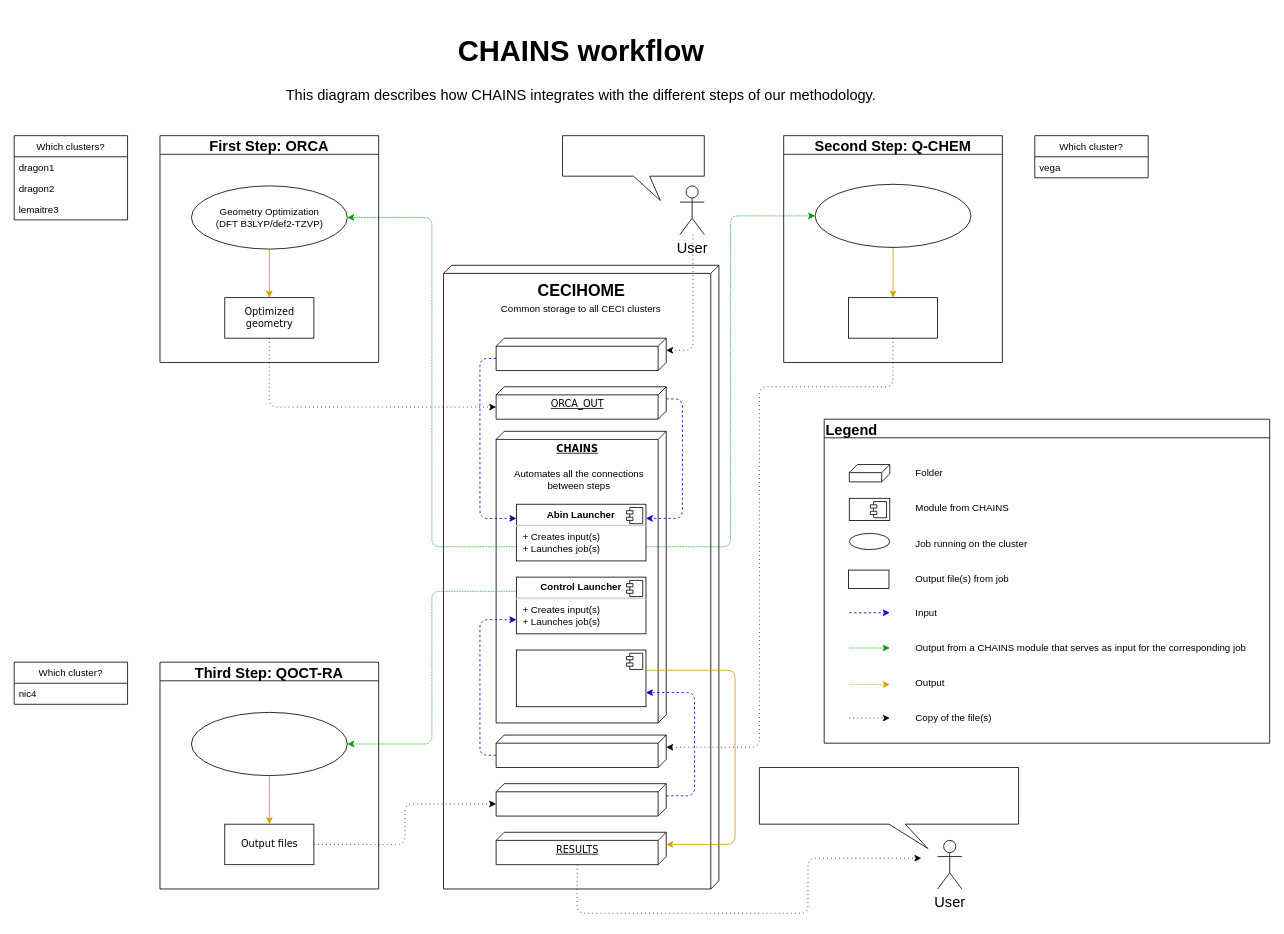
This 1284x934 diagram has some shape labels left out. The centre of each missing label's shape, as x and y in pixels:
CONTROL_OUT: the point at 580,799
Dipole moments and SOC determination (TD-DFT B3LYP/def2-TZVP): the point at 892,215
Let's put the starting geometries here: the point at 633,167
Output file: the point at 893,317
Q-CHEM_OUT: the point at 580,750
Quantum Optimal Control: the point at 269,744
Results Treatment + Creates table(s) + Creates graph(s): the point at 581,678
STARTING: the point at 580,354
We get some detailed graphs and tables, no need for further treatment.: the point at 889,807
